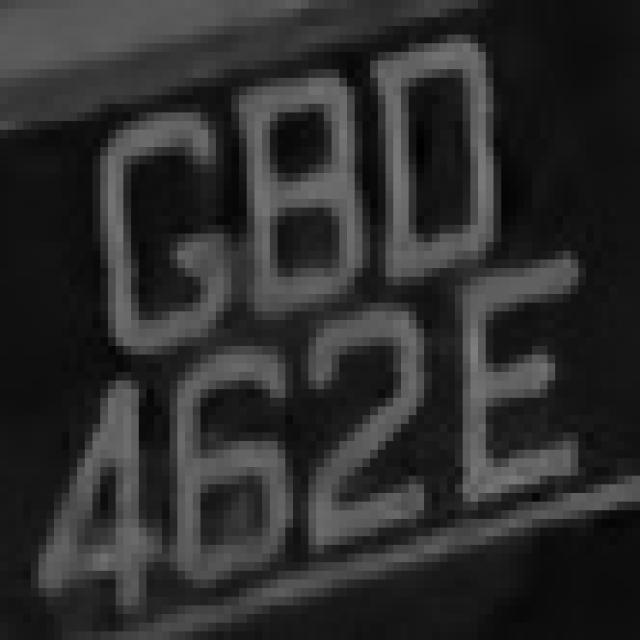2: (255, 276, 448, 554)
4: (0, 363, 177, 622)
6: (162, 338, 316, 580)
B: (201, 60, 370, 328)
D: (355, 26, 509, 294)
E: (432, 268, 594, 528)
G: (69, 87, 247, 380)
